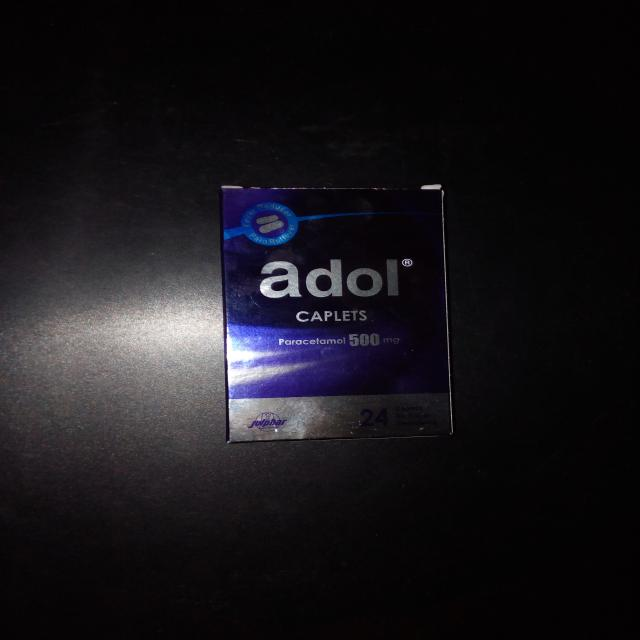Medicine: (216, 179, 460, 445)
